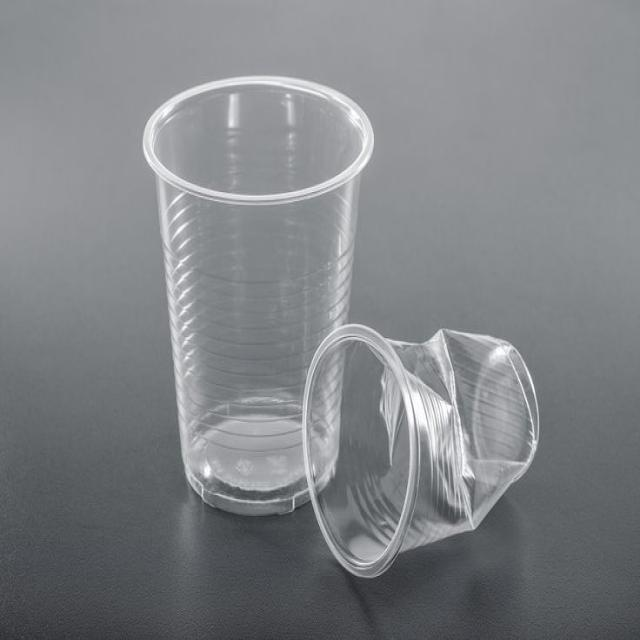GelasPlastik: (141, 73, 375, 516), (300, 321, 540, 580)
